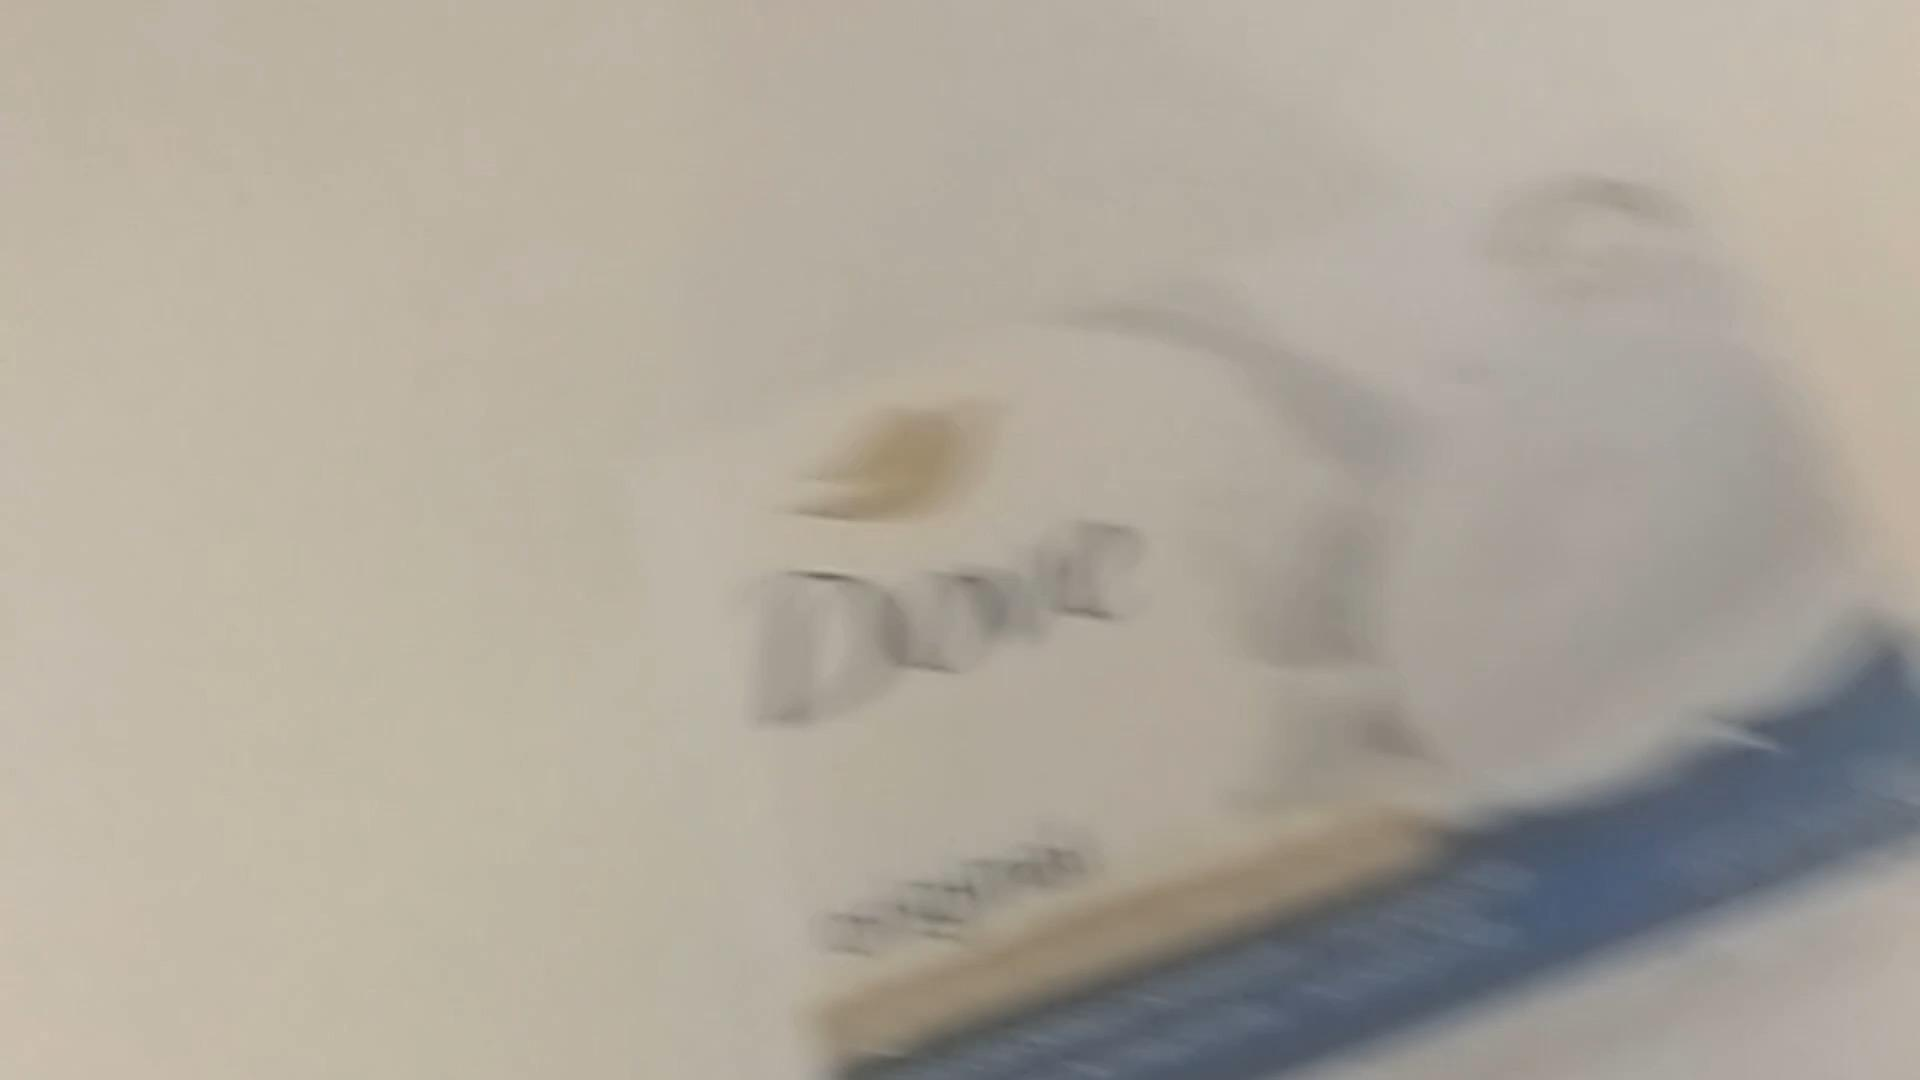soap: (613, 119, 1916, 1079)
